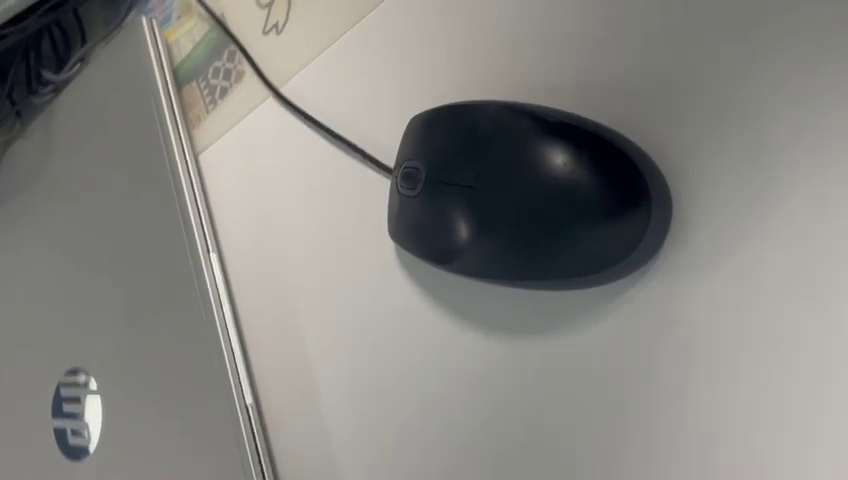objeto: (370, 97, 688, 299)
